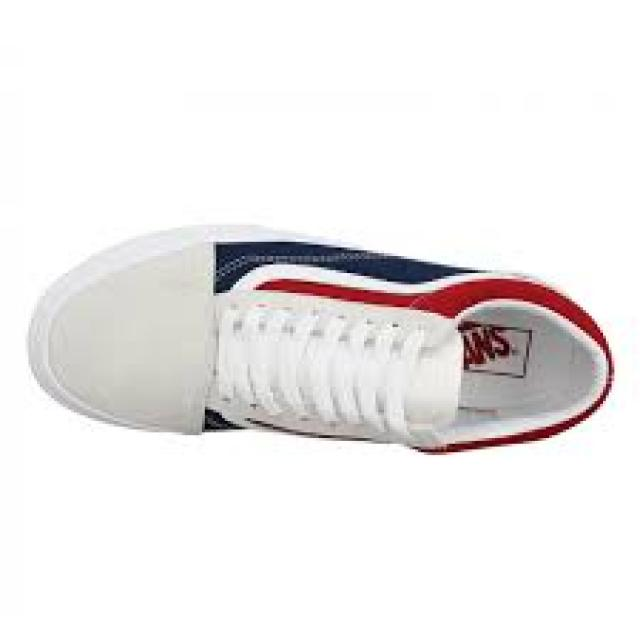shoe: (23, 217, 617, 458)
